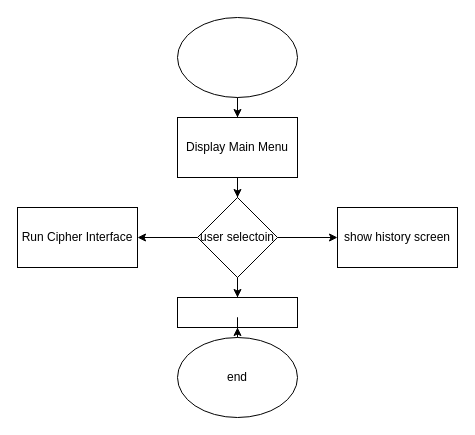
Some shapes in this 475 by 435 pixel diagram are drawn without their labels. The shapes that lost their labels are listed below. From the top down, each one's box as (x1, y1, x2, y2) in pixels, then its label:
(176, 16, 298, 98): Start
(176, 296, 298, 328): exit
